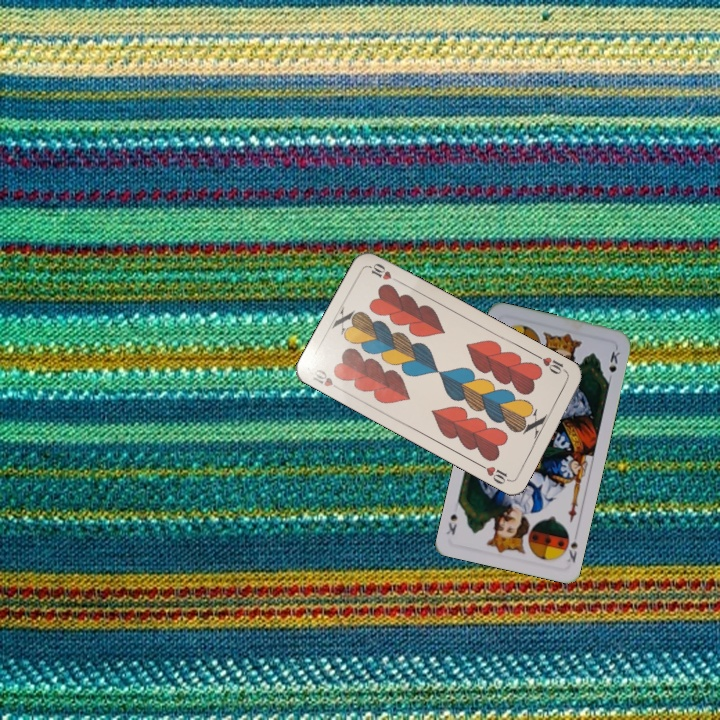H10: (309, 365, 345, 394), (532, 351, 570, 377)
SK: (563, 536, 580, 565)
